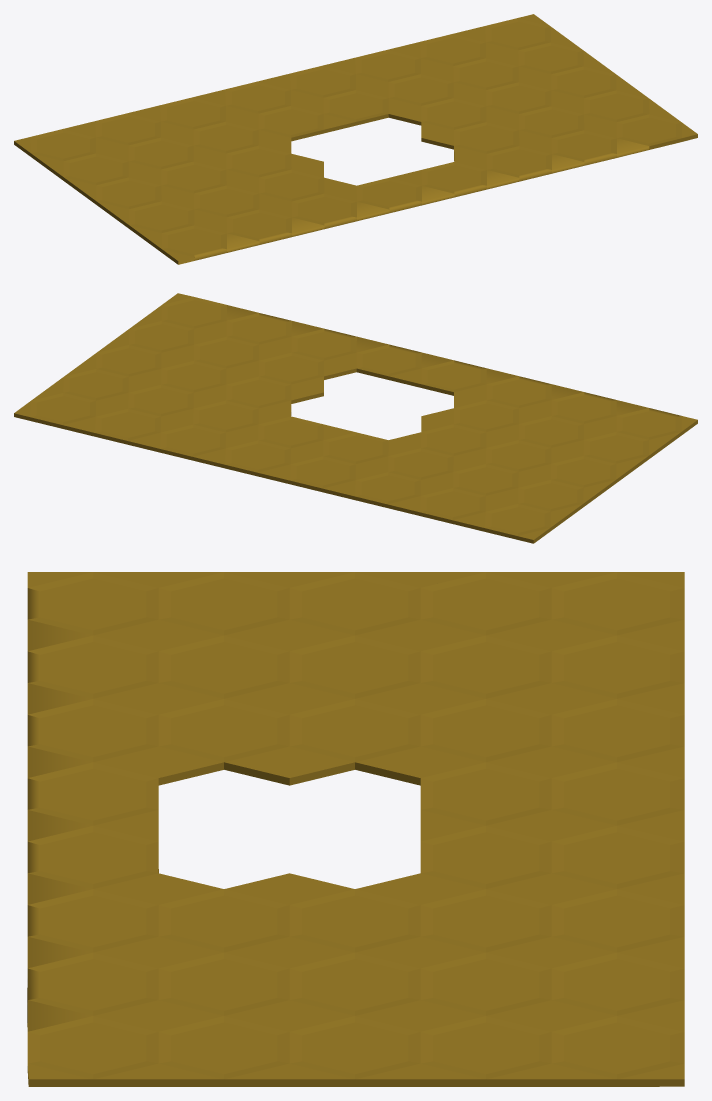
File: exit_wall.fbx
The picture shows the model from 3 angles, top to bottom: view 1: azimuth 30°, elevation 25°; view 2: azimuth 150°, elevation 25°; view 3: azimuth 270°, elevation 25°; orthographic projection. The views are drawn at different scales.
Parts seen in each view (by area): view 1: wall_final; view 2: wall_final; view 3: wall_final.
Part boxes in pixels (x1,y1,x2,y2): wall_final: (14,14,697,264); wall_final: (14,293,697,543); wall_final: (27,572,684,1086).
Size of the model in its own units: 16 by 0.1101 by 8.77.
